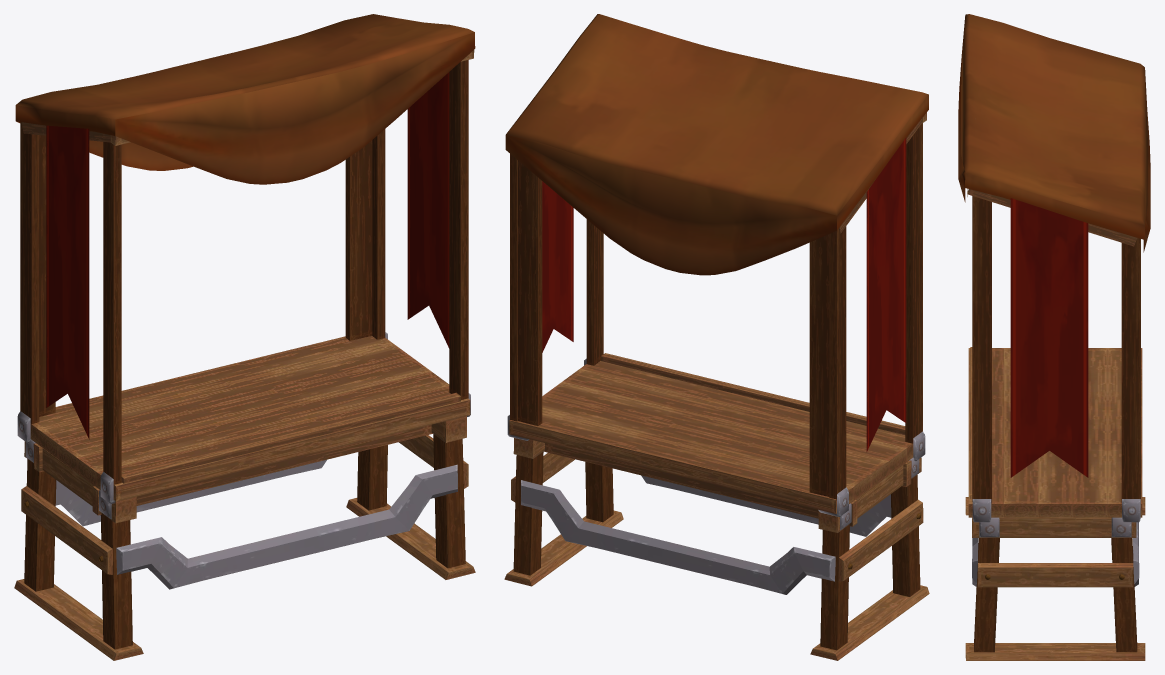
Rendered from Stall Empty.glb.
The picture shows the model from 3 angles, left to right: view 1: azimuth 30°, elevation 25°; view 2: azimuth 150°, elevation 25°; view 3: azimuth 270°, elevation 25°; orthographic projection. The views are drawn at different scales.
Visible parts, largest first — view 1: Stall_Empty; view 2: Stall_Empty; view 3: Stall_Empty.
Part boxes in pixels (x1,y1,x2,y2): Stall_Empty: (14, 14, 475, 660); Stall_Empty: (504, 14, 929, 660); Stall_Empty: (958, 14, 1150, 660).
Bounding box in the file's own units: 1.84 × 2.63 × 0.9323.
Materials: 3 (3 with a texture image).
